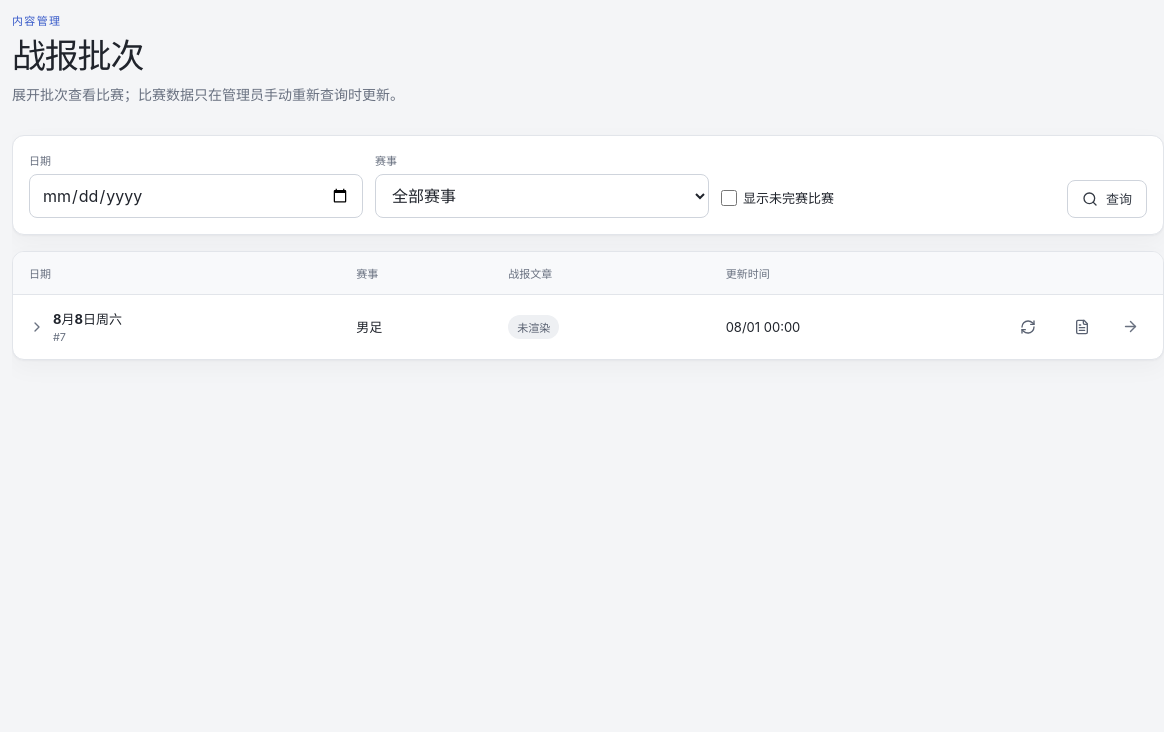
Scenario: stage 6 report batches › renders a report article from the batch row and shows match warnings
Click the button named "渲染文章": (1082,327) [1059, 308, 1105, 346]
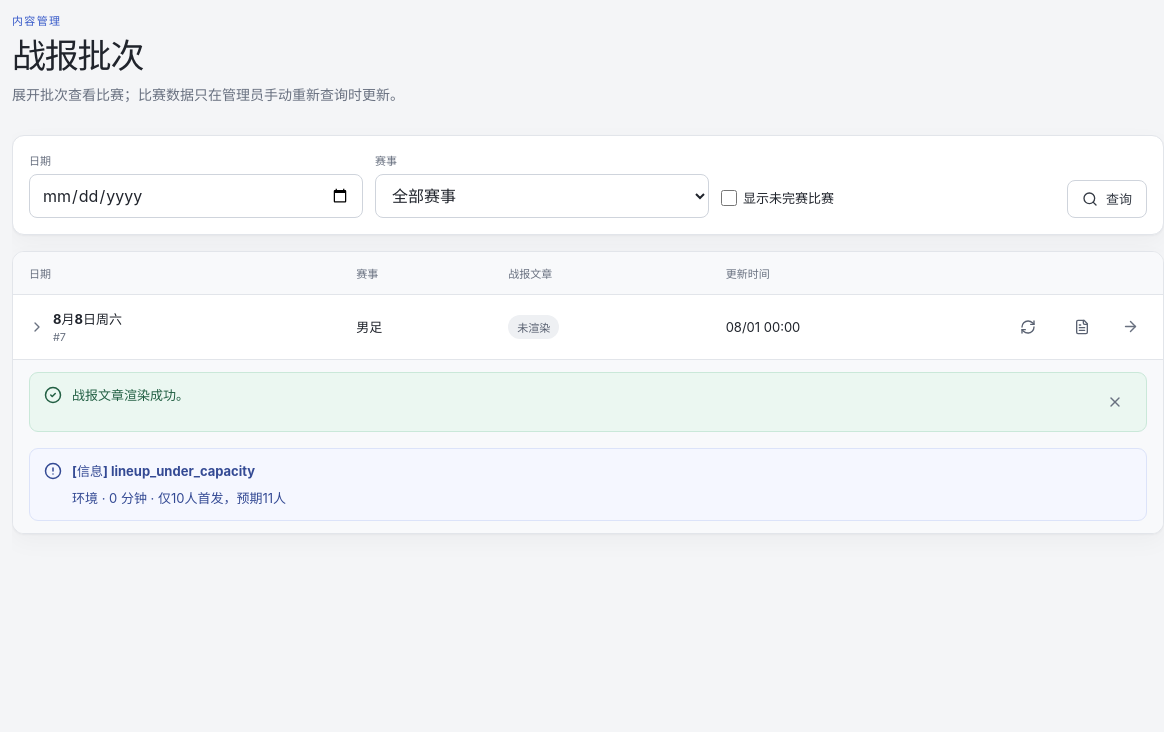
Expected: the text "战报文章渲染成功。" is shown, [72, 386, 189, 402]
Expected: the text "环境 · 0 分钟 · 仅10人首发，预期11人" is shown, [72, 490, 286, 506]
